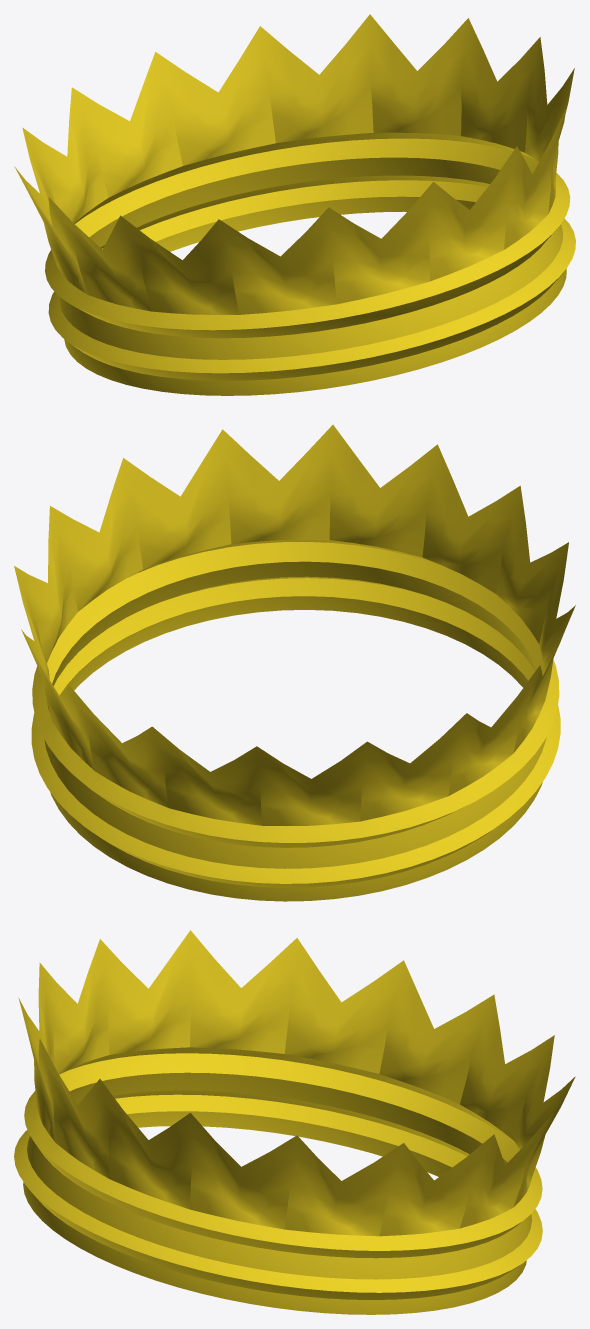
File: corwn.glb
The picture shows the model from 3 angles, top to bottom: view 1: azimuth 30°, elevation 25°; view 2: azimuth 150°, elevation 25°; view 3: azimuth 270°, elevation 25°; orthographic projection.
Visible parts, largest first — view 1: Circle; view 2: Circle; view 3: Circle.
Part boxes in pixels (x1,y1,x2,y2): Circle: (14,14,575,395); Circle: (14,425,575,901); Circle: (14,930,575,1314).
Size of the model in its own units: 1.7 by 0.8718 by 1.7.
